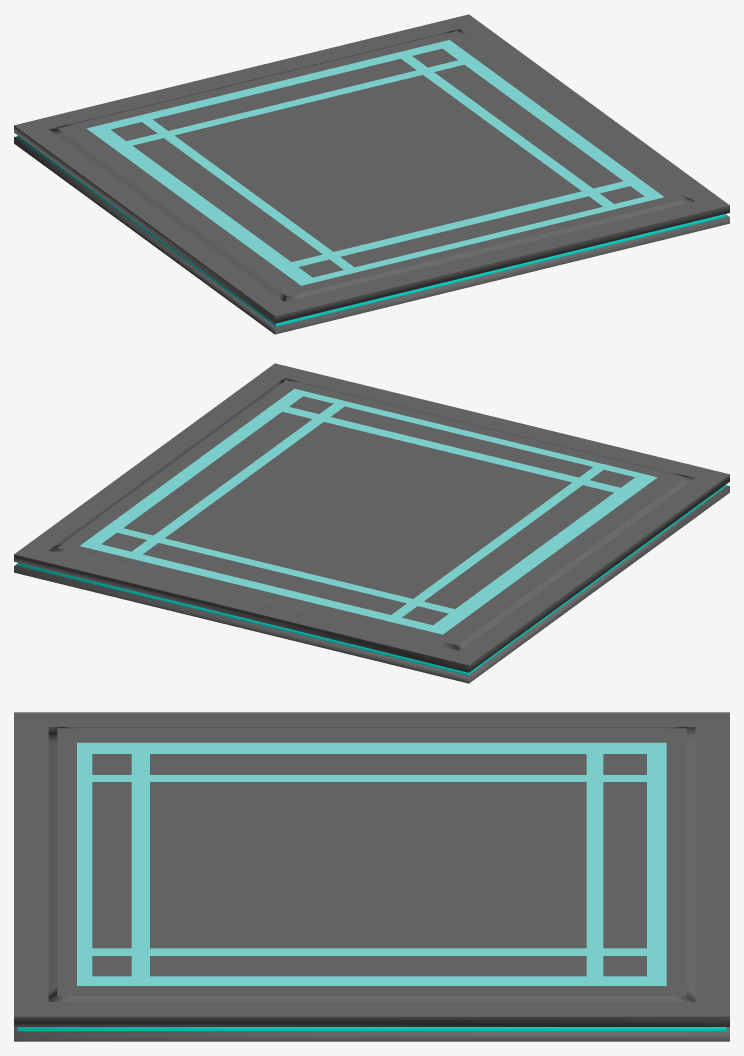
The model's file is GRID-FIX.fbx.
3 renders of one model, top to bottom at view 1: azimuth 30°, elevation 25°; view 2: azimuth 150°, elevation 25°; view 3: azimuth 270°, elevation 25°, orthographic. The views are drawn at different scales.
Parts seen in each view (by area): view 1: pCube6, pCube2, pCube3; view 2: pCube6, pCube2, pCube3; view 3: pCube6, pCube2, pCube3.
Part boxes in pixels (box(x1,y1,x2,y2)): pCube6: box(49, 29, 694, 301); pCube2: box(14, 14, 729, 334); pCube3: box(17, 136, 726, 326); pCube6: box(49, 378, 694, 650); pCube2: box(14, 363, 729, 683); pCube3: box(17, 485, 726, 675); pCube6: box(48, 727, 695, 1001); pCube2: box(14, 712, 729, 1041); pCube3: box(17, 1027, 726, 1031).
Size of the model in its own units: 10 by 0.4204 by 9.94.
